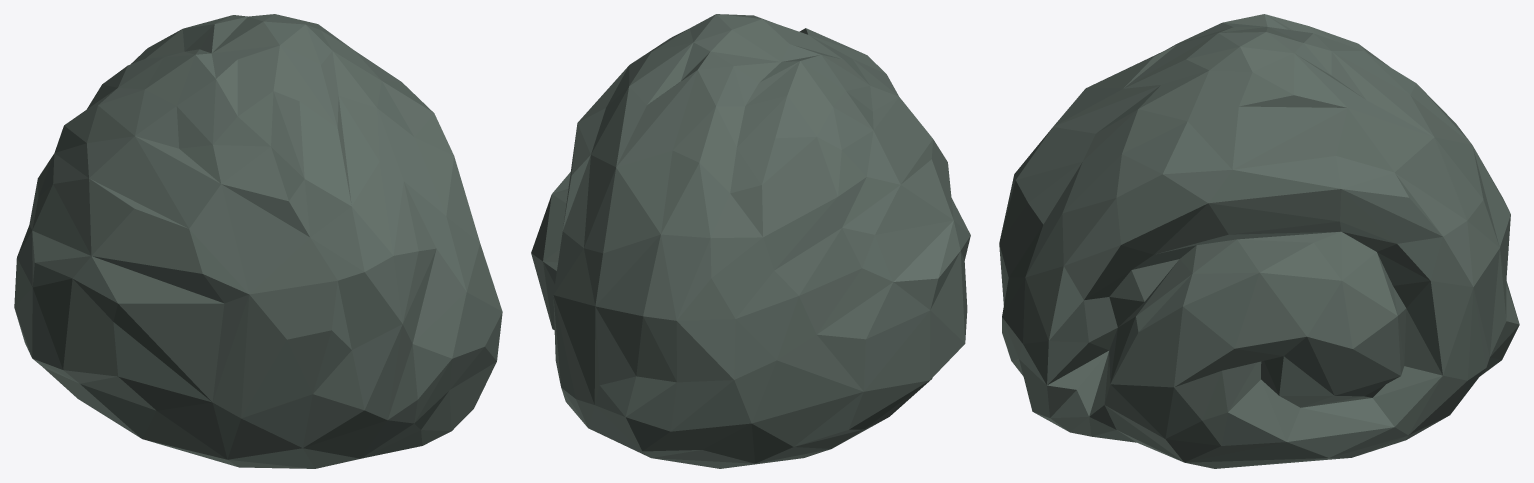
The model's file is RockSwirl.fbx.
3 views of the same model, side by side, from view 1: azimuth 30°, elevation 25°; view 2: azimuth 150°, elevation 25°; view 3: azimuth 270°, elevation 25° (orthographic). The views are drawn at different scales.
Visible parts, largest first — view 1: Sphere; view 2: Sphere; view 3: Sphere.
Part boxes in pixels (x1,y1,x2,y2): Sphere: (14,14,502,468); Sphere: (531,14,970,468); Sphere: (999,14,1519,468).
Bounding box in the file's own units: 151 × 140 × 173.
